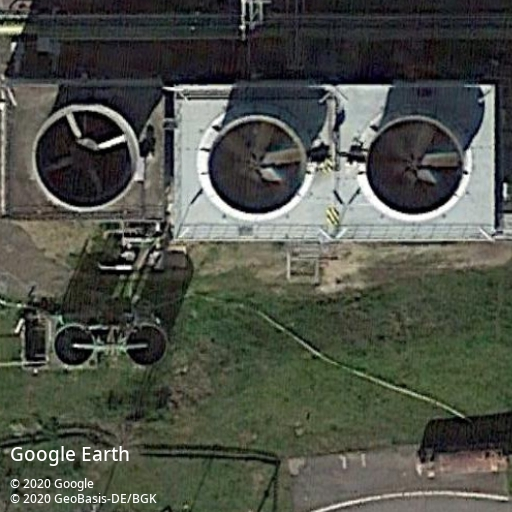Vent: (33, 106, 137, 211), (363, 117, 466, 217), (206, 118, 305, 216)
